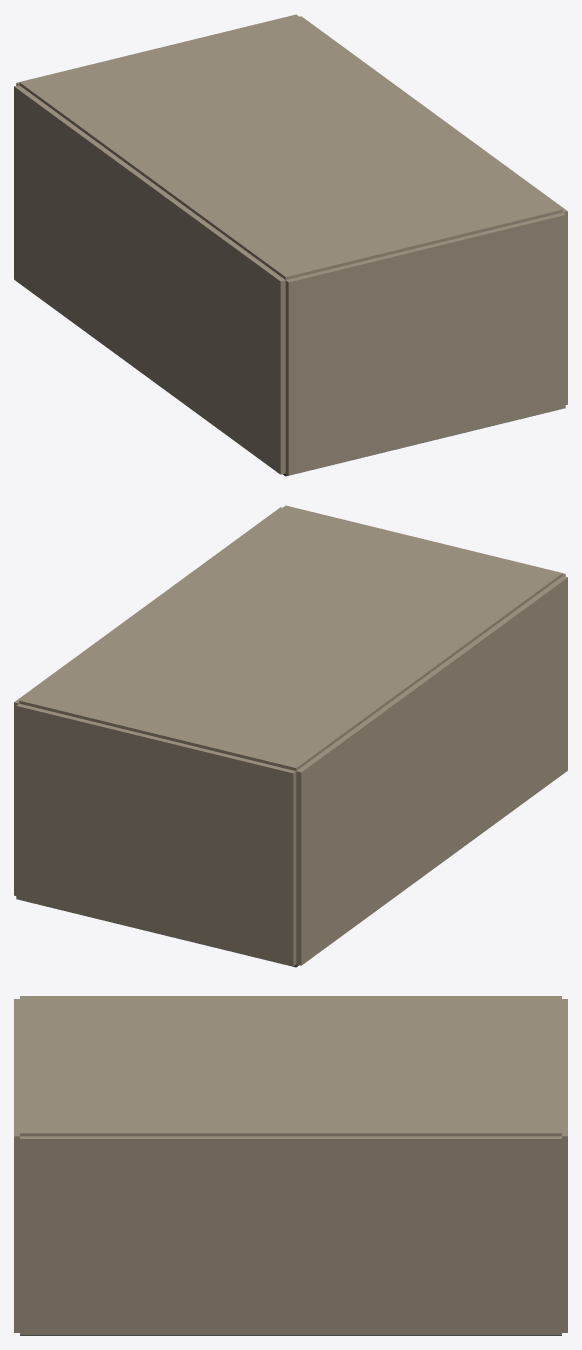
File: M03SponzaAtrium.gltf
3 renders of one model, top to bottom at view 1: azimuth 30°, elevation 25°; view 2: azimuth 150°, elevation 25°; view 3: azimuth 270°, elevation 25°, orthographic.
Parts seen in each view (by area): view 1: Ceiling, EntryWall, LeftWall, RightWall; view 2: Ceiling, RearWall, LeftWall, RightWall; view 3: RightWall, Ceiling, EntryWall, RearWall, Floor.
Part boxes in pixels (x1,y1,x2,y2): Ceiling: (19,14,562,279); EntryWall: (285,212,565,475); LeftWall: (14,85,285,474); RightWall: (299,16,567,404); Ceiling: (19,505,562,770); RearWall: (16,703,296,966); LeftWall: (296,576,567,965); RightWall: (14,507,282,895); RightWall: (20,1136,561,1335); Ceiling: (20,996,561,1136); EntryWall: (14,999,19,1332); RearWall: (562,999,567,1332); Floor: (20,1335,561,1335).
Size of the model in its own units: 12.45 by 8.25 by 20.45.
